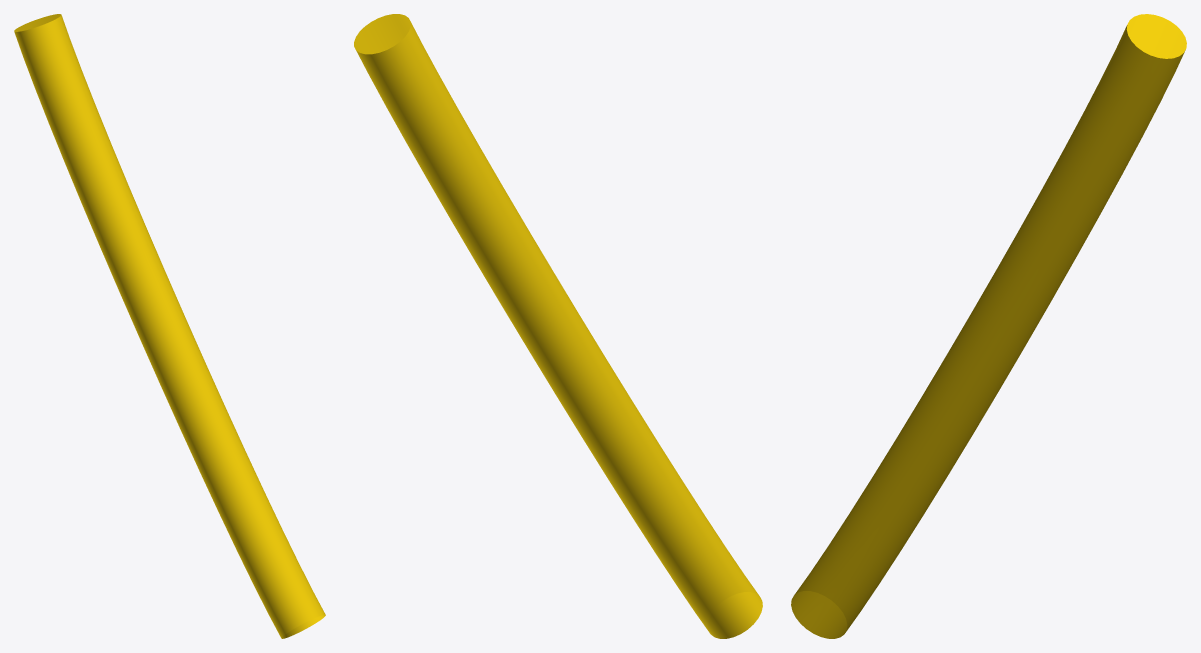
The model's file is Event_420107950_track_2.fbx.
3 views of the same model, side by side, from view 1: azimuth 90°, elevation 25°; view 2: azimuth 150°, elevation 25°; view 3: azimuth 270°, elevation 25° (orthographic). The views are drawn at different scales.
Parts seen in each view (by area): view 1: Model; view 2: Model; view 3: Model.
Part boxes in pixels (box(x1,y1,x2,y2)): Model: box(14, 14, 325, 638); Model: box(354, 14, 762, 638); Model: box(791, 14, 1186, 638).
Size of the model in its own units: 0.1782 by 0.4842 by 0.2481.
